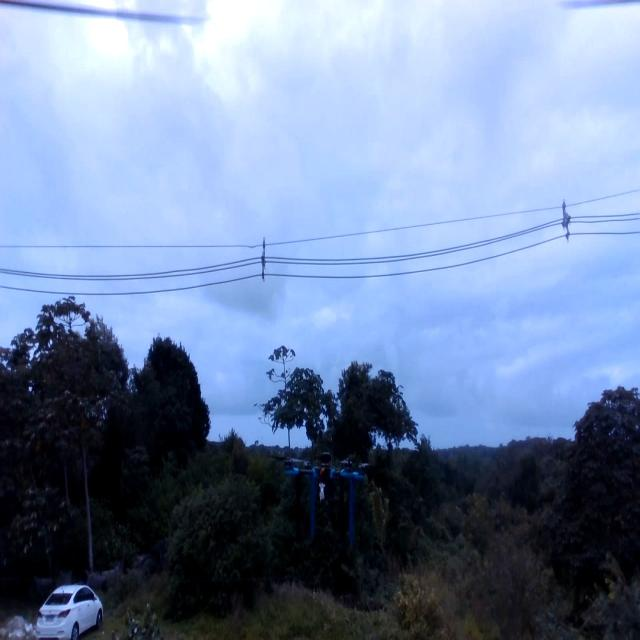-uav-: (275, 434, 376, 563)
